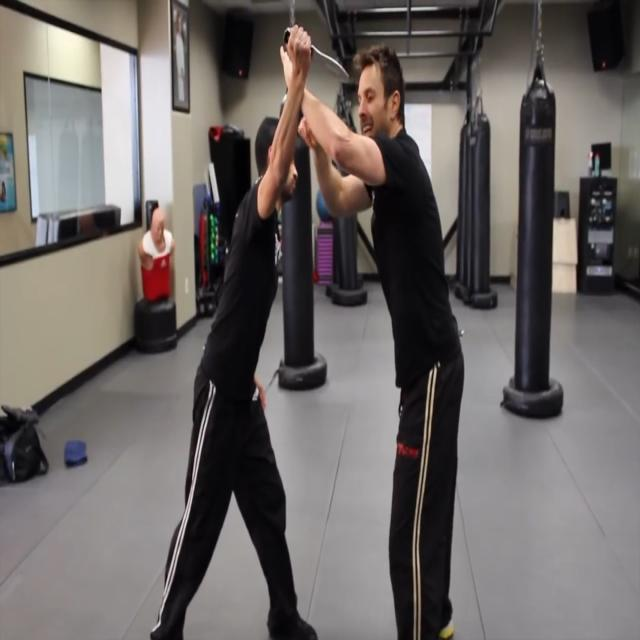knife: (309, 41, 351, 87)
